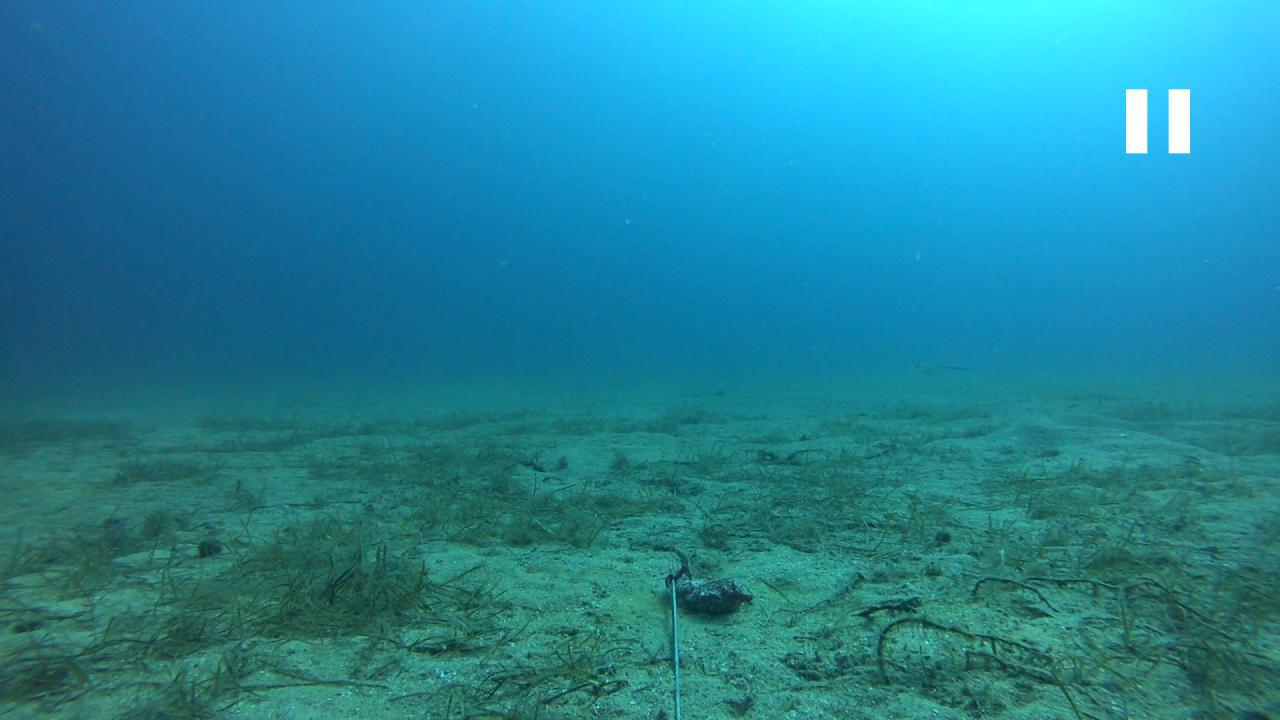dasyatis: (910, 359, 974, 376)
